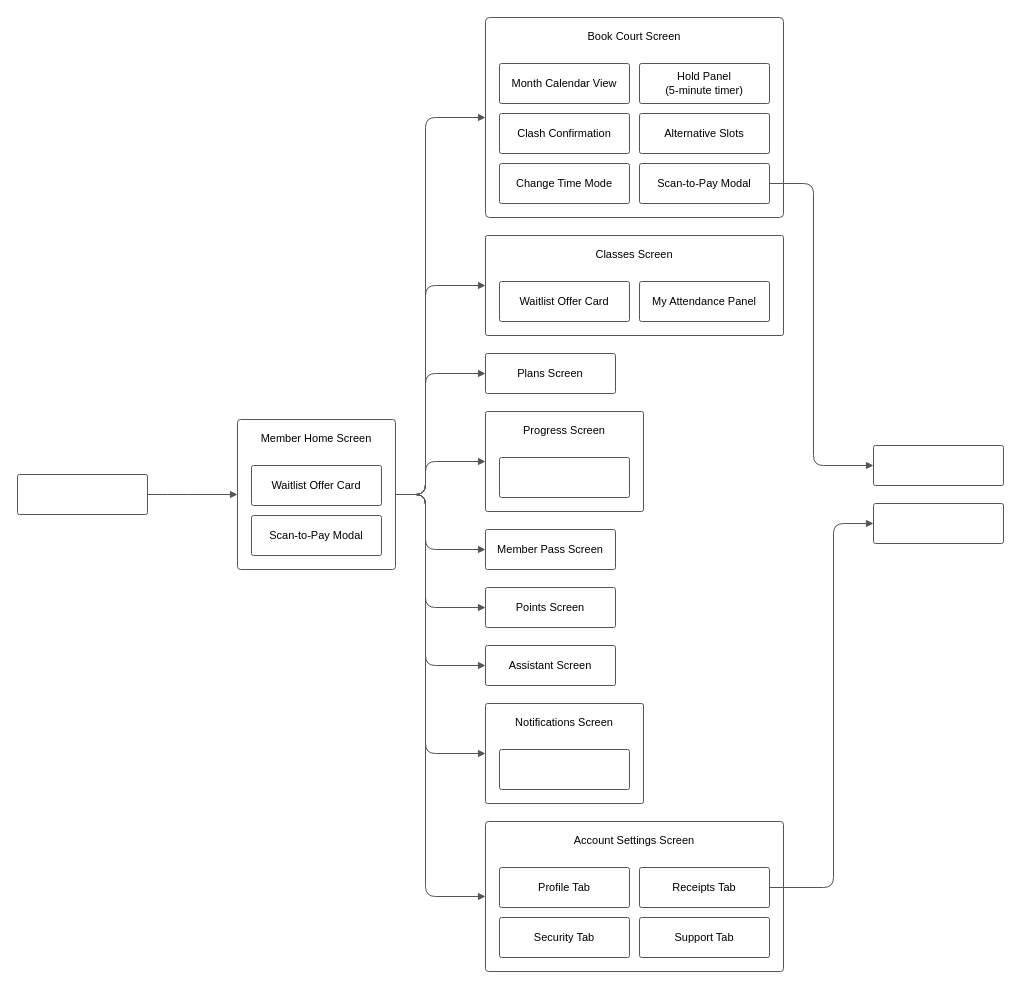
Image size: 1021x989. Some labels were removed from this diagram. The centre of each missing label's shape, as x and y in pixels:
"Certificates Panel" belongs at [564,477].
"Login Screen" belongs at [82,494].
"Notification Detail Modal" belongs at [564,769].
"Payment Return Screen" belongs at [938,465].
"Receipt PDF (new tab)" belongs at [938,523].
